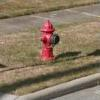Hydrant: (34, 12, 65, 65)
